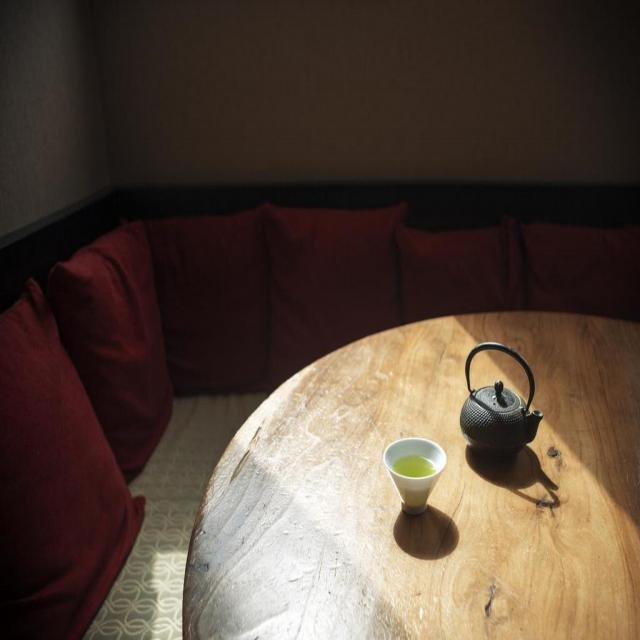Tea: (391, 452, 436, 475)
